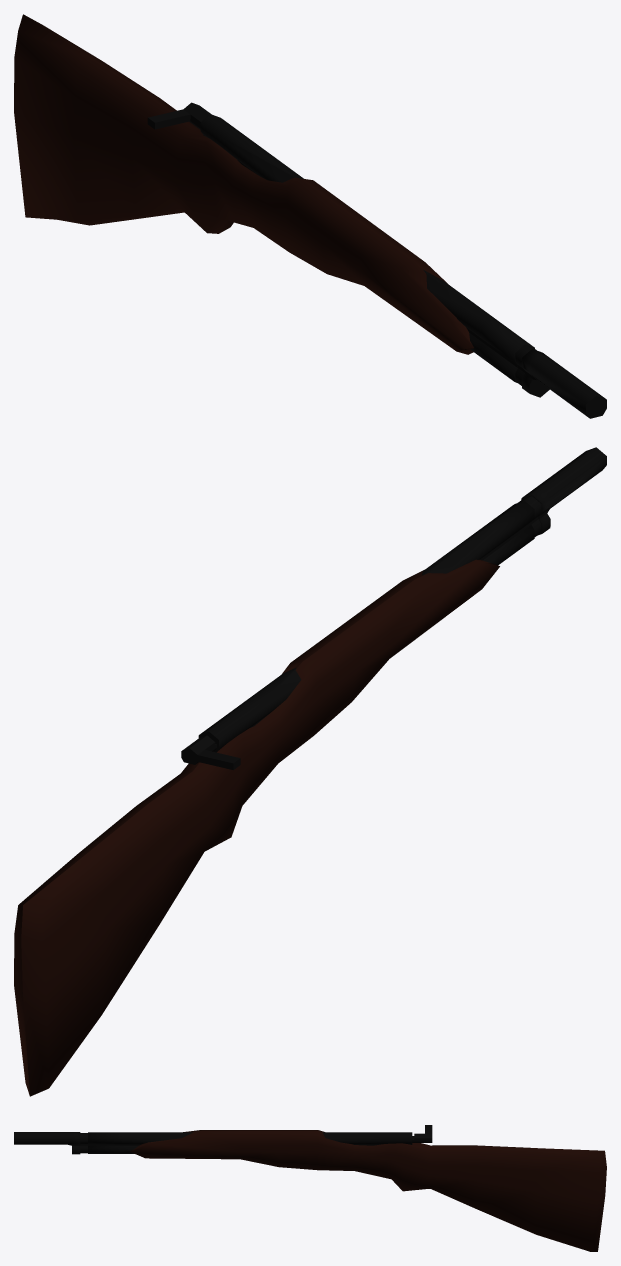
Rendered from rifle.FBX.
The picture shows the model from 3 angles, top to bottom: view 1: azimuth 30°, elevation 25°; view 2: azimuth 150°, elevation 25°; view 3: azimuth 270°, elevation 25°; orthographic projection. The views are drawn at different scales.
Parts seen in each view (by area): view 1: Box001, Object001; view 2: Box001, Object001; view 3: Box001, Object001.
Boxes of the visible parts, x1,y1,x2,y2 form: Box001: (14,14,606,418); Object001: (147,102,211,129); Box001: (14,447,606,1096); Object001: (181,735,240,770); Box001: (14,1130,606,1251); Object001: (412,1125,432,1142).
Size of the model in its own units: 7.56 by 28.98 by 129.
